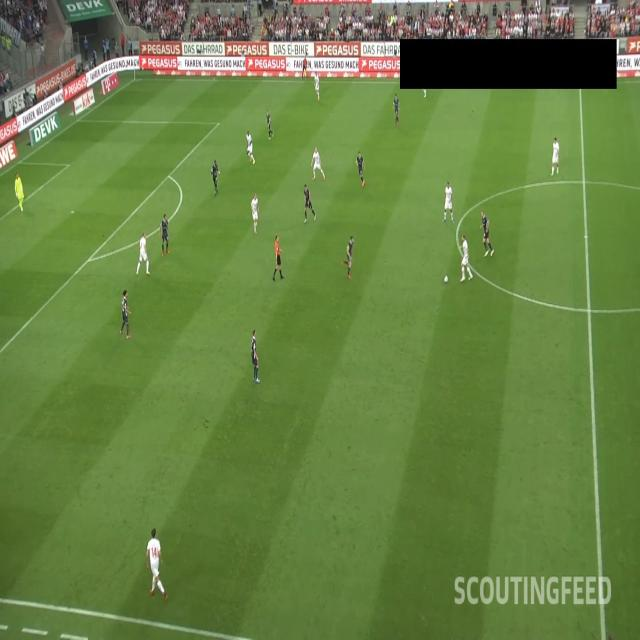ball: (443, 274, 449, 284)
